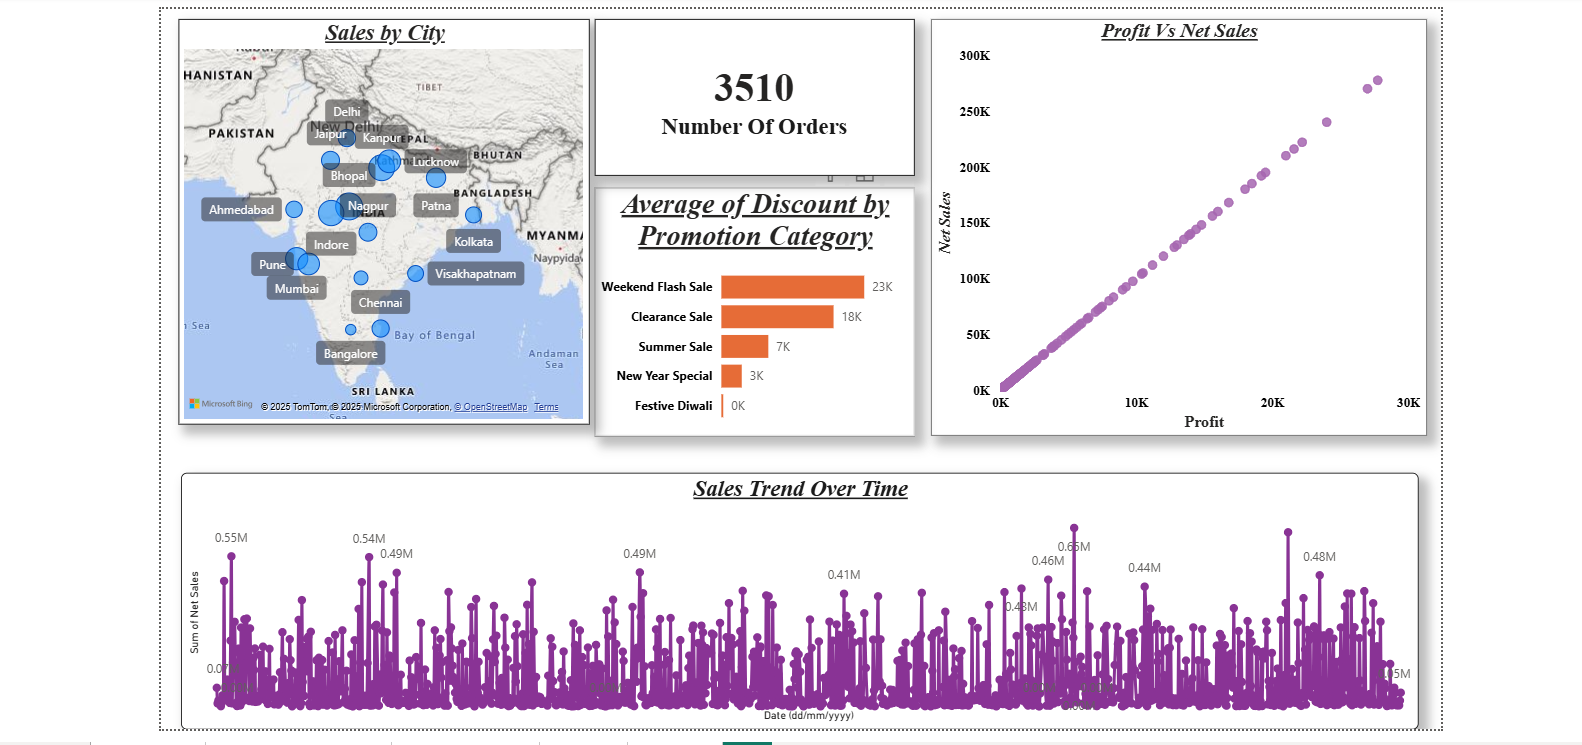

This screenshot's page, from the dashboard's own definition file:
{"tool":"powerbi","page":{"name":"Overveiw","canvas":[1280,720],"ordinal":0},"visuals":[{"type":"lineChart","title":"Sales Trend Over Time","fields":{"Y":["Sum(Fact Table.Net Sales)"],"Category":["Fact Table.Date (dd/mm/yyyy).Variation.Date Hierarchy.Year"]},"box":[20.6,463.8,1237.7,256.6],"z":0},{"type":"scatterChart","title":"Profit Vs Net Sales","fields":{"X":["Fact Table.Profit"],"Y":["Fact Table.Net Sales"]},"box":[770,10,495.7,417.1],"z":1000},{"type":"barChart","title":"Average of Discount by Promotion Category","fields":{"Y":["Avg(Fact Table.Discount)"],"Category":["Dim Promotion.Promotion Name"]},"box":[434.3,178.6,320,248.6],"z":2000},{"type":"map","title":" Sales  by   City","fields":{"Size":["Sum(Fact Table.Net Sales)"],"Category":["Dim Customers.City"]},"box":[17.1,10,411.4,405.7],"z":3000},{"type":"card","fields":{"Values":["Count(Fact Table.Order ID)"]},"box":[434.3,10,320,157.1],"z":4000}]}

Visuals, with their boxes on the page's 1280x720 design canvas (x1, y1, x2, y2). These are canvas units, not pixel positions in the 1582x745 screenshot, which may show the page scaled, cropped or inside an application window:
"Sales Trend Over Time" lineChart: (x1=21, y1=464, x2=1258, y2=720)
"Profit Vs Net Sales" scatterChart: (x1=770, y1=10, x2=1266, y2=427)
"Average of Discount by Promotion Category" barChart: (x1=434, y1=179, x2=754, y2=427)
" Sales  by   City" map: (x1=17, y1=10, x2=428, y2=416)
card - Count(Fact Table.Order ID): (x1=434, y1=10, x2=754, y2=167)
